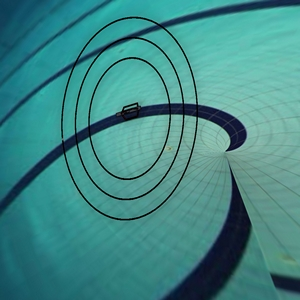circle: (49, 2, 206, 238)
submarine: (110, 97, 146, 132)
